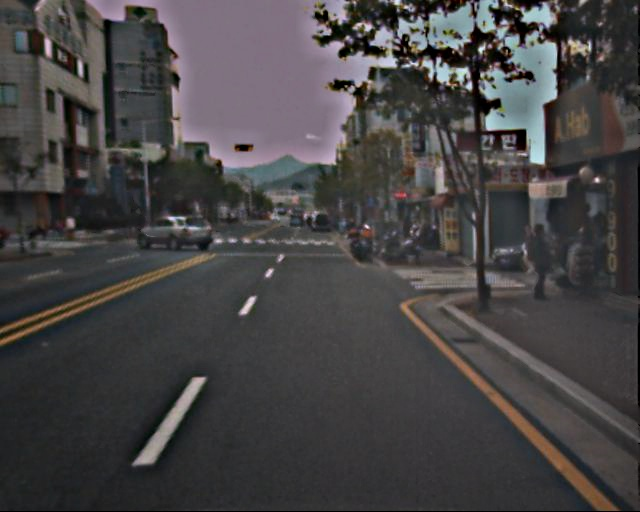person: (524, 225, 557, 300), (516, 222, 539, 276)
